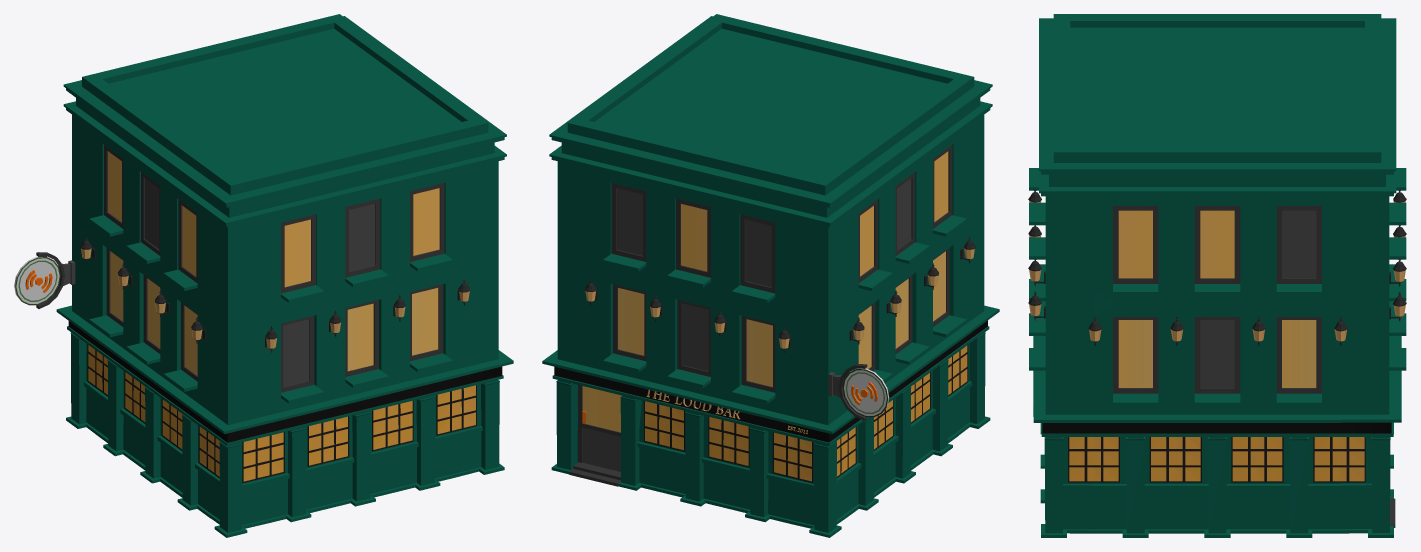
The model's file is irish-bar-building.glb.
3 views of the same model, side by side, from view 1: azimuth 30°, elevation 25°; view 2: azimuth 150°, elevation 25°; view 3: azimuth 270°, elevation 25° (orthographic). The views are drawn at different scales.
Parts seen in each view (by area): view 1: irish-bar-building; view 2: irish-bar-building; view 3: irish-bar-building.
Boxes of the visible parts, <box> form: irish-bar-building: <box>14,14,513,537</box>; irish-bar-building: <box>542,14,999,537</box>; irish-bar-building: <box>1028,14,1406,537</box>.
Size of the model in its own units: 10.65 by 10.25 by 9.25.
Materials: 2 (1 with a texture image).
